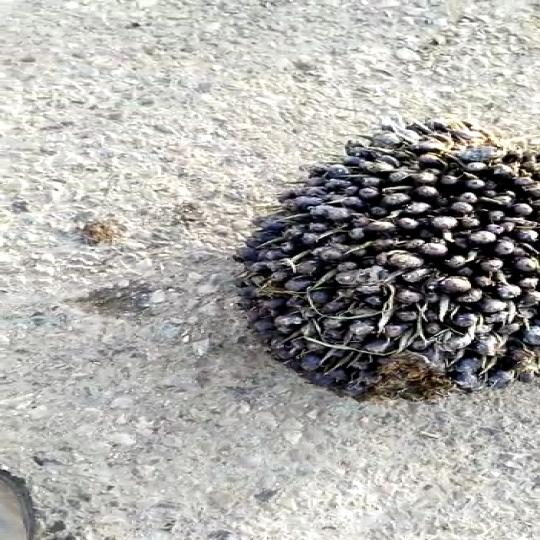mentah: (242, 108, 540, 417)
